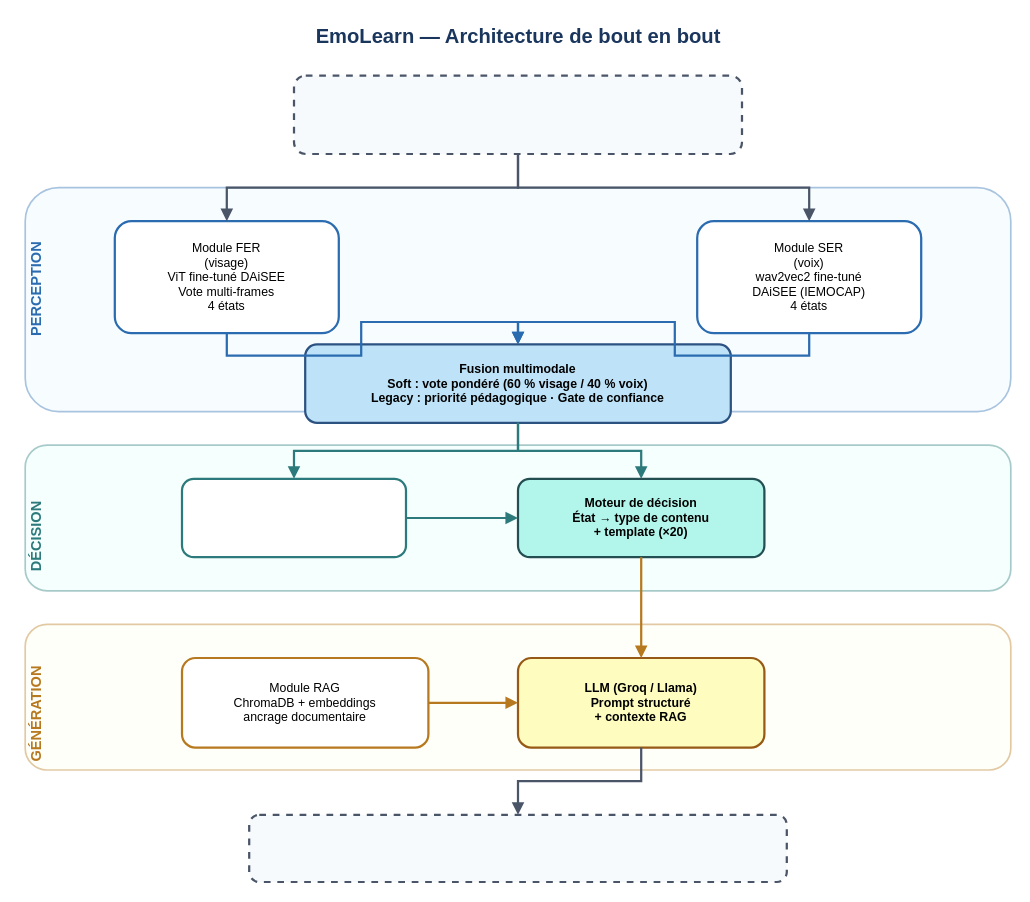
This 1030x902 diagram has some shape labels left out. The shapes that lost their labels are listed below. From the top down, each one's centre as x and y in pixels, then its label:
At point (517, 114): "Entrée Clip vidéo (DAiSEE) + segment audio (IEMOCAP) + contexte pédagogique".
At point (293, 517): "Règles temporelles (déclenchement)".
At point (517, 848): "Sortie Contenu pédagogique adaptatif + journal de décision (traçabilité)".
